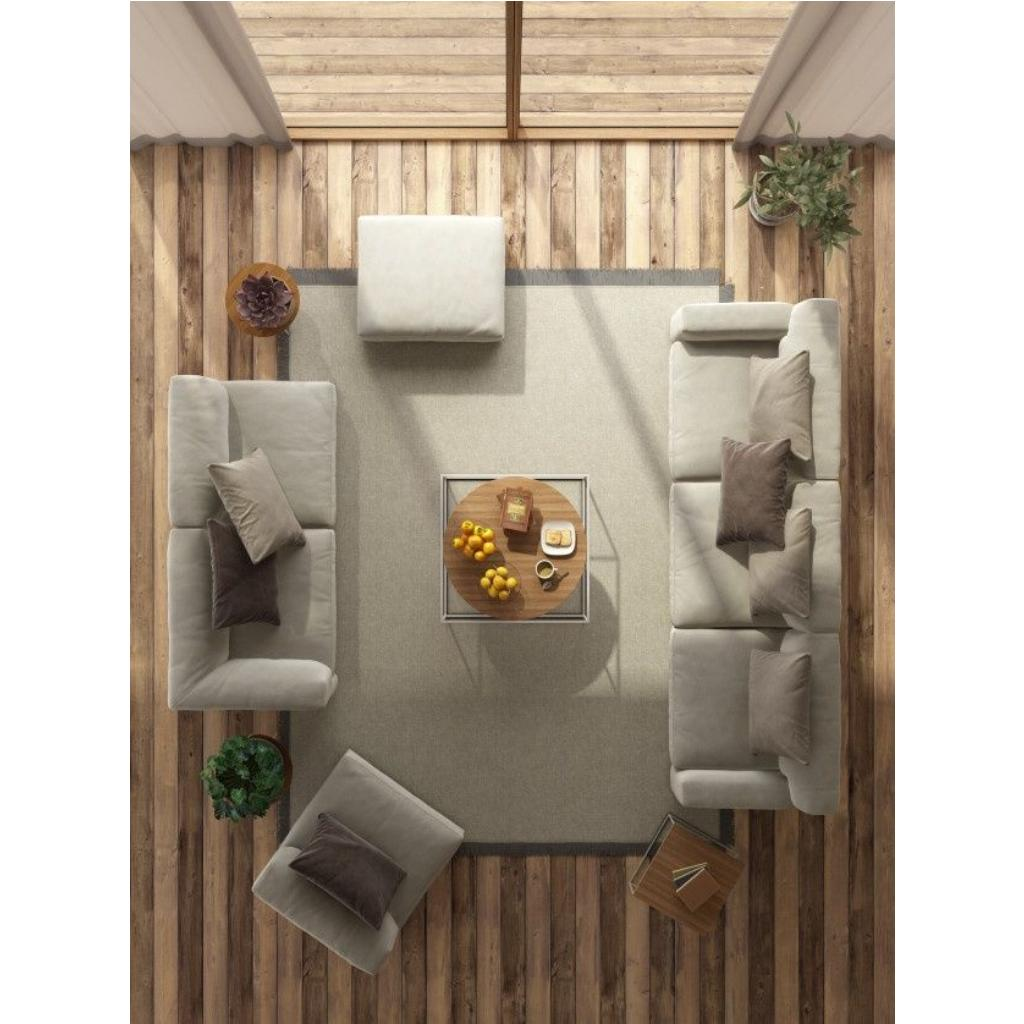chair: (244, 749, 468, 978)
floor plant: (204, 740, 280, 816), (747, 156, 813, 226)
ottoman: (356, 211, 506, 339)
rug: (288, 264, 736, 858)
side table: (627, 820, 749, 938), (226, 265, 298, 337)
sofa: (666, 300, 844, 810), (166, 378, 338, 706)
window: (516, 2, 836, 24), (195, 2, 511, 24)
